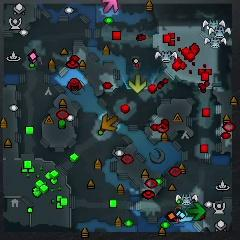x1: (102, 0, 119, 14)
x2: (129, 74, 147, 94)
x3: (179, 212, 195, 225)
x4: (187, 203, 204, 219)
x5: (100, 113, 119, 132)
